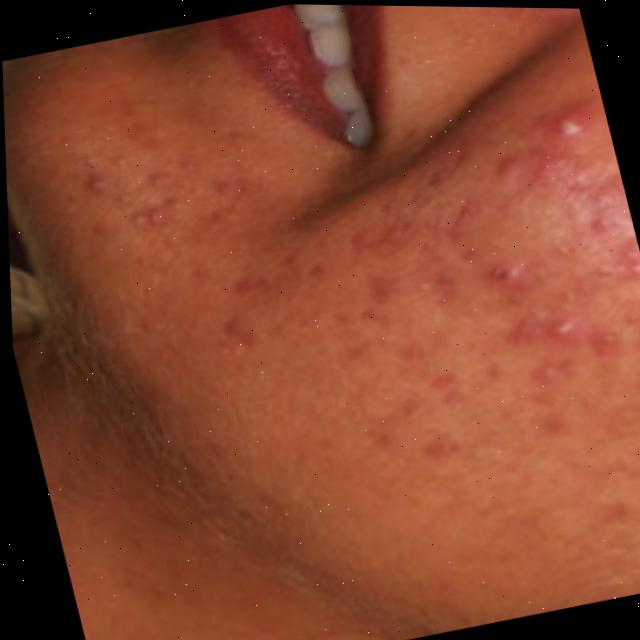Acne: (223, 72, 640, 571)
